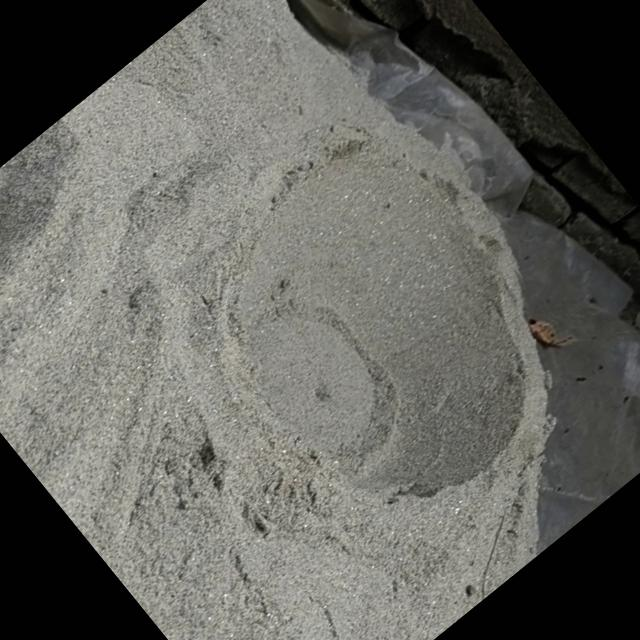C20: (236, 145, 524, 496)
